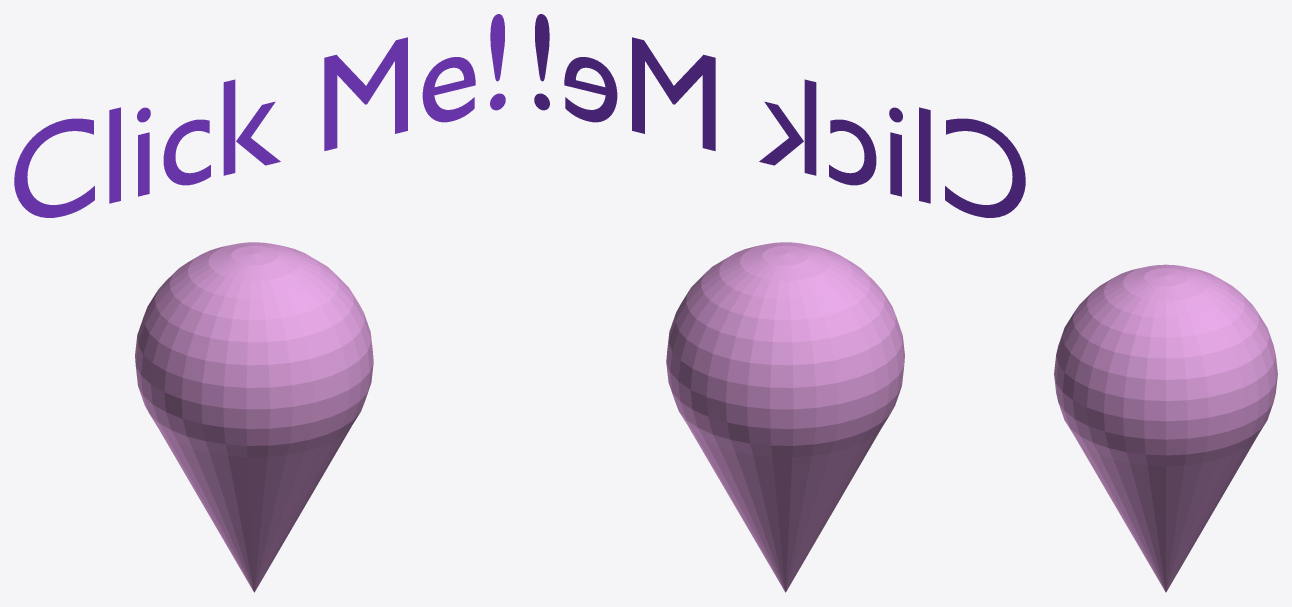
File: Camping-cabin-ping.glb
3 views of the same model, side by side, from view 1: azimuth 30°, elevation 25°; view 2: azimuth 150°, elevation 25°; view 3: azimuth 270°, elevation 25° (orthographic). The views are drawn at different scales.
Parts seen in each view (by area): view 1: ping_cabin, clickme_cabin; view 2: ping_cabin, clickme_cabin; view 3: ping_cabin.
Boxes of the visible parts, left/top/right/bottom form: ping_cabin: left=135, top=242, right=373, bottom=592; clickme_cabin: left=14, top=14, right=505, bottom=217; ping_cabin: left=666, top=242, right=904, bottom=592; clickme_cabin: left=534, top=14, right=1025, bottom=217; ping_cabin: left=1054, top=264, right=1277, bottom=592.
Bounding box in the file's own units: 1.25 × 1.26 × 0.5264.
